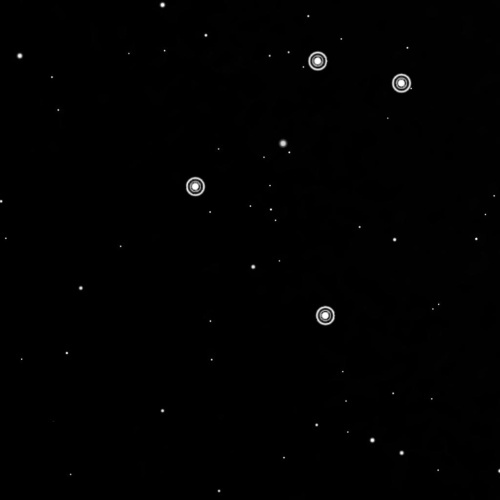coma_berenices: (180, 41, 420, 333)
